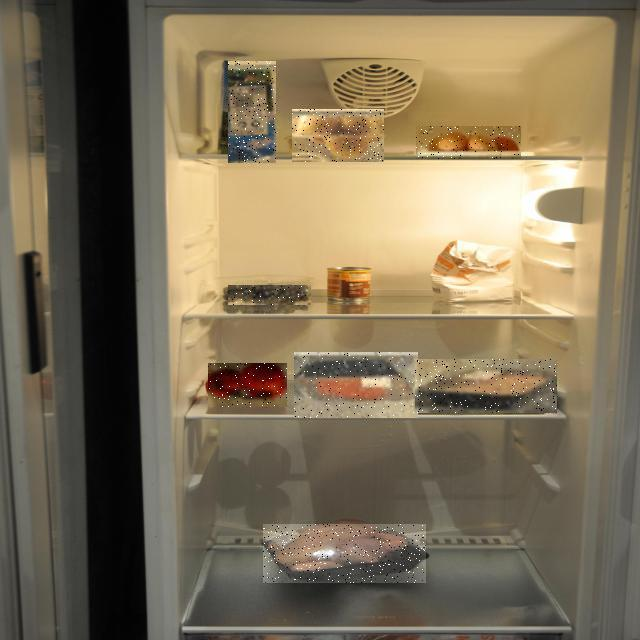Eggs: (416, 126, 521, 159)
Meat: (263, 524, 426, 583), (294, 352, 418, 418), (415, 359, 557, 413)
Milk: (228, 61, 276, 163)
Olives: (228, 285, 311, 305)
Potatoes: (292, 109, 384, 162)
Tomatoes: (208, 363, 287, 407)
